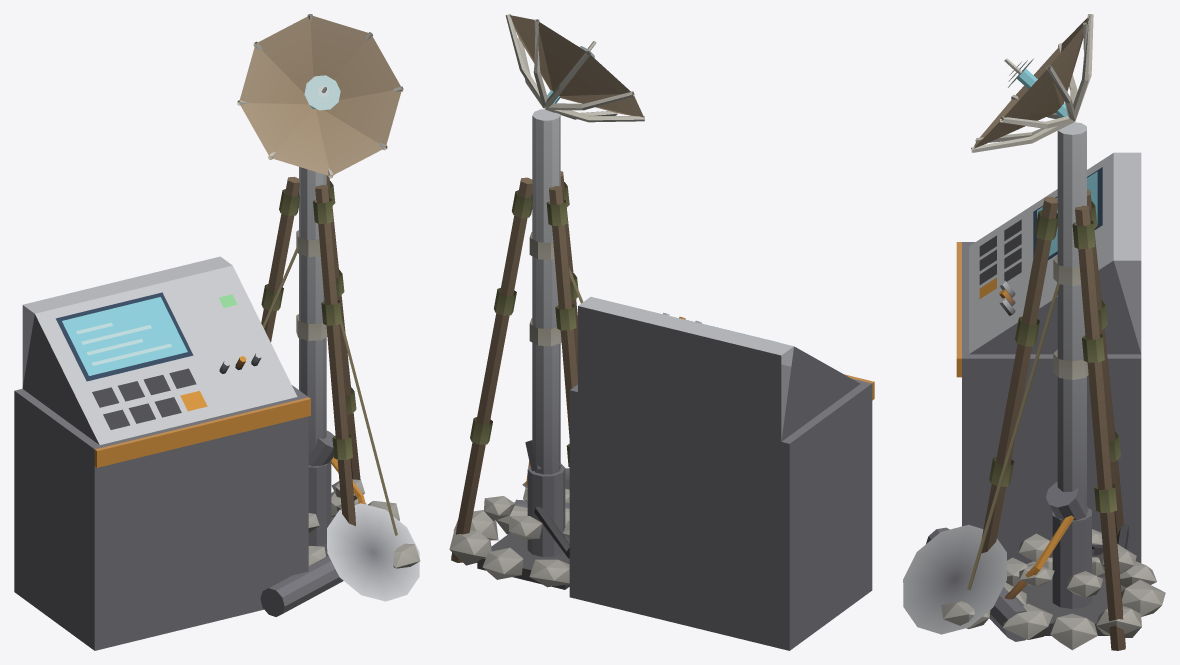
File: beacon_a.glb
The picture shows the model from 3 angles, left to right: view 1: azimuth 30°, elevation 25°; view 2: azimuth 150°, elevation 25°; view 3: azimuth 270°, elevation 25°; orthographic projection. The views are drawn at different scales.
Parts seen in each view (by area): view 1: base, beacon_3, beacon_1, before_beacon_1, beacon_3_glow, beacon_2, beacon_launch_glow; view 2: base, beacon_1, beacon_3, beacon_2; view 3: base, beacon_1, before_beacon_1, beacon_2, beacon_3, beacon_3_glow, beacon_launch_glow.
Boxes of the visible parts, x1,y1,x2,y2 form: base: (14, 256, 334, 650); beacon_3: (237, 14, 403, 340); beacon_1: (261, 167, 360, 525); before_beacon_1: (260, 430, 419, 616); beacon_3_glow: (62, 294, 237, 375); beacon_2: (262, 245, 420, 568); beacon_launch_glow: (304, 75, 340, 110); base: (477, 297, 874, 650); beacon_1: (451, 109, 578, 562); beacon_3: (505, 14, 644, 346); beacon_2: (449, 267, 583, 587); base: (956, 152, 1141, 635); beacon_1: (981, 122, 1125, 650); before_beacon_1: (903, 482, 1088, 641); beacon_2: (941, 283, 1165, 650); beacon_3: (971, 14, 1093, 379); beacon_3_glow: (1037, 171, 1097, 256); beacon_launch_glow: (1008, 58, 1067, 117).
Size of the model in its own units: 1.32 by 1.89 by 0.7619.
